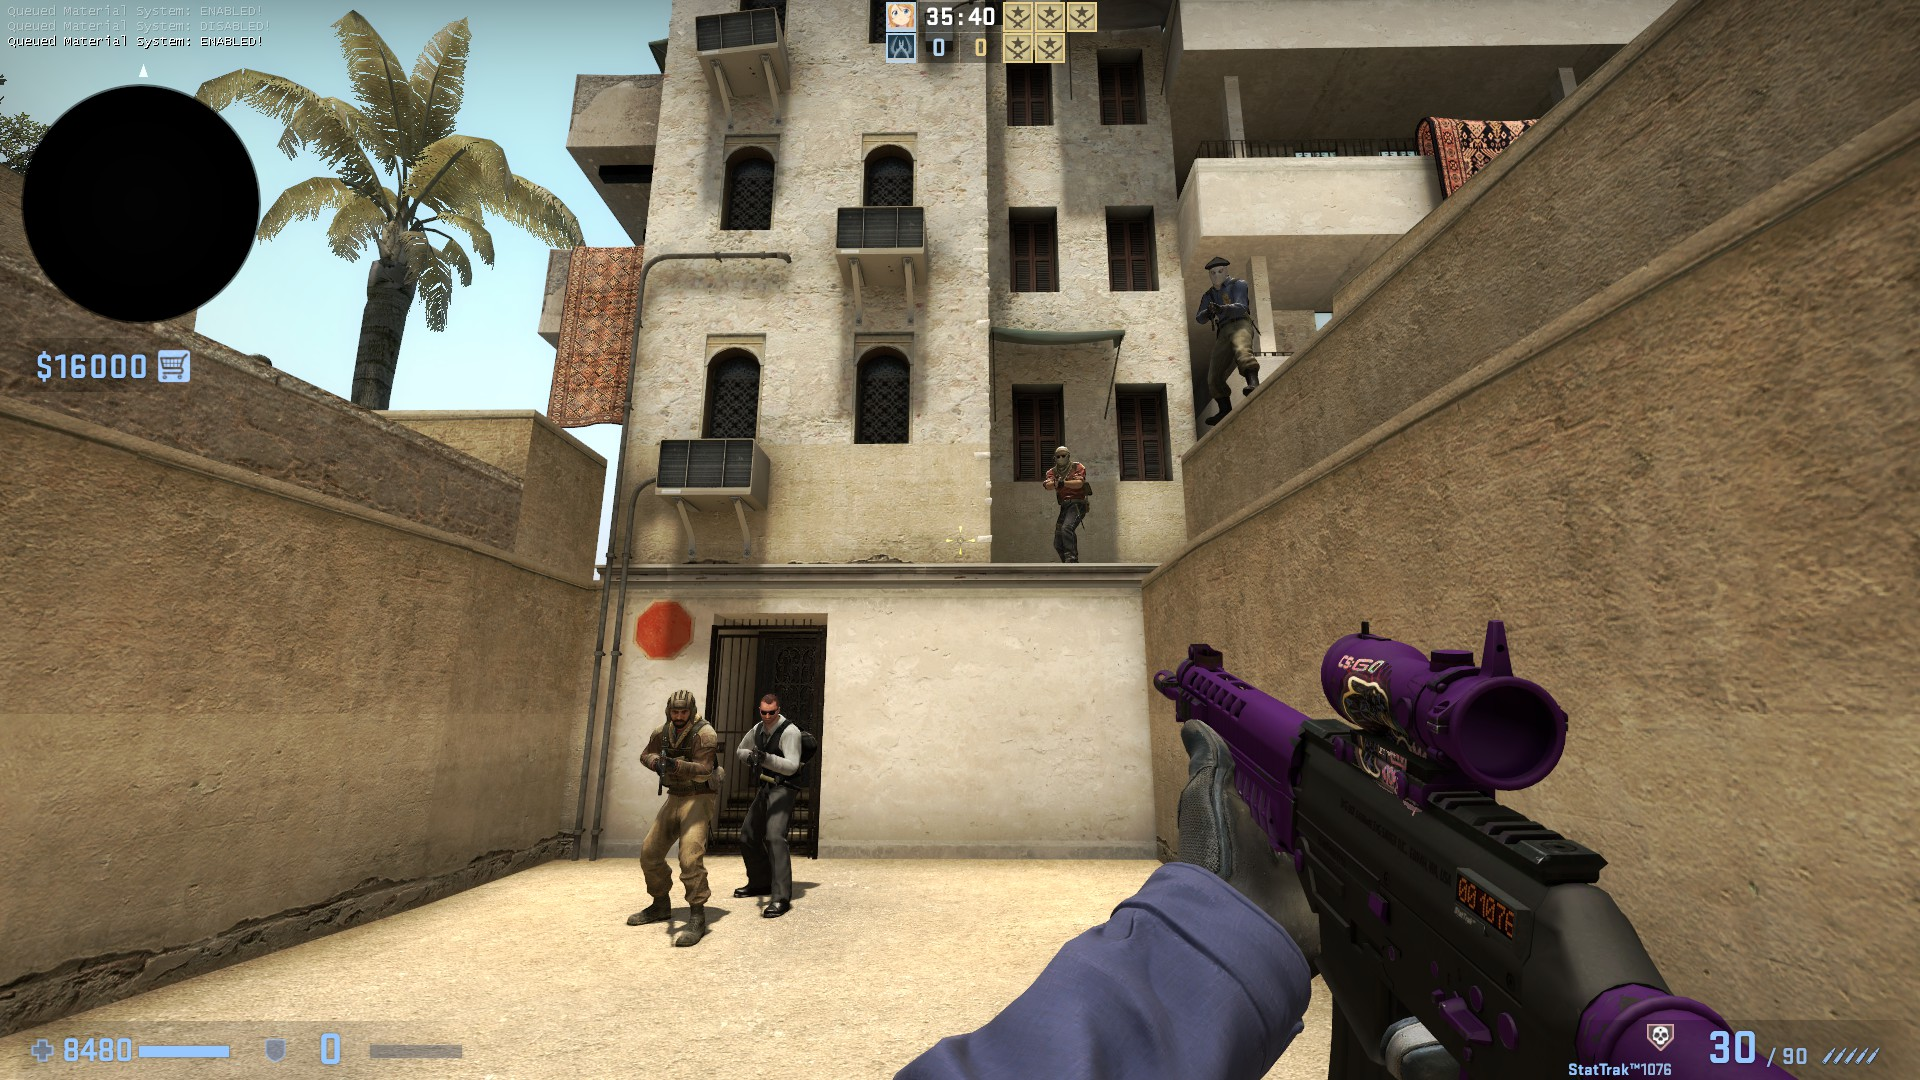head: (663, 687, 696, 726), (1202, 255, 1230, 287), (757, 693, 778, 723), (1053, 442, 1069, 466)
